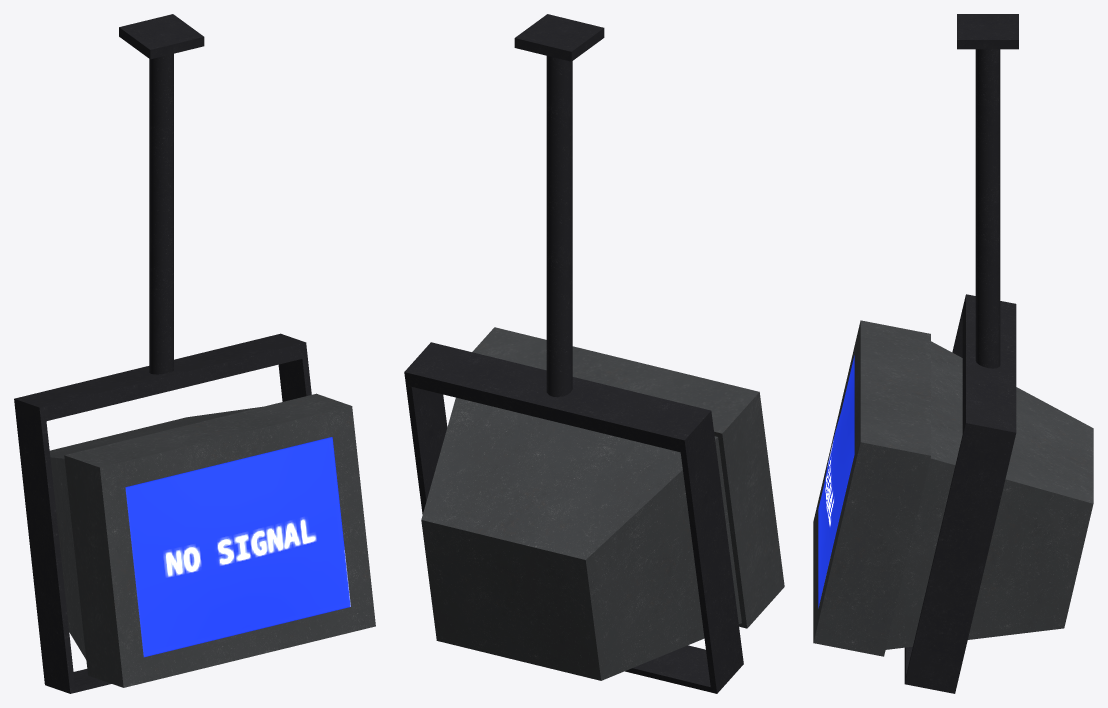
Rendered from SM_QUE_TV_Hung_NoSignal.fbx.
3 renders of one model, left to right at view 1: azimuth 30°, elevation 25°; view 2: azimuth 150°, elevation 25°; view 3: azimuth 270°, elevation 25°, orthographic. The views are drawn at different scales.
Visible parts, largest first — view 1: SM_QUE_TV_Hung_NoSignal; view 2: SM_QUE_TV_Hung_NoSignal; view 3: SM_QUE_TV_Hung_NoSignal.
Part boxes in pixels (left/top/right/bottom): SM_QUE_TV_Hung_NoSignal: left=14, top=14, right=375, bottom=693; SM_QUE_TV_Hung_NoSignal: left=404, top=14, right=784, bottom=693; SM_QUE_TV_Hung_NoSignal: left=813, top=14, right=1093, bottom=693.
Bounding box in the file's own units: 0.592 × 1.29 × 0.5436.
